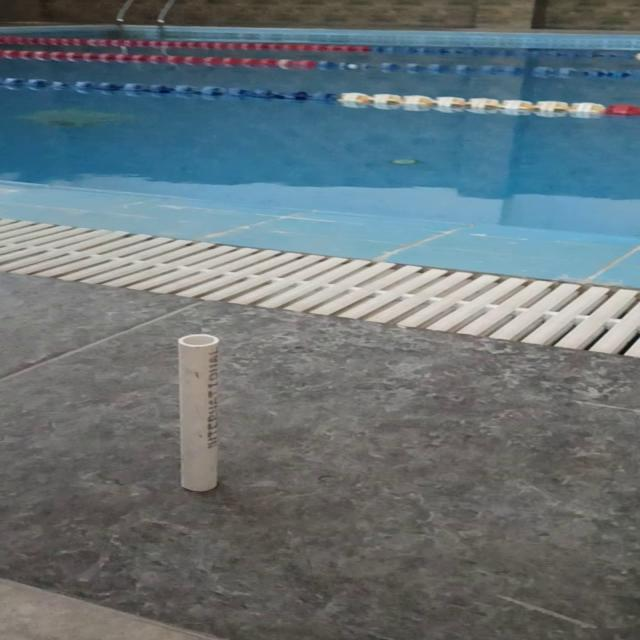Cube: (175, 333, 221, 491)
